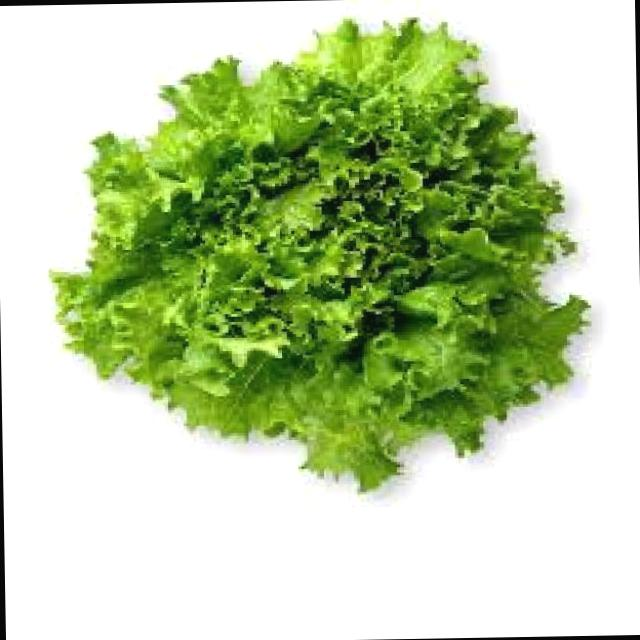Lettuce-Ready-to-Harvest: (54, 20, 586, 489)
